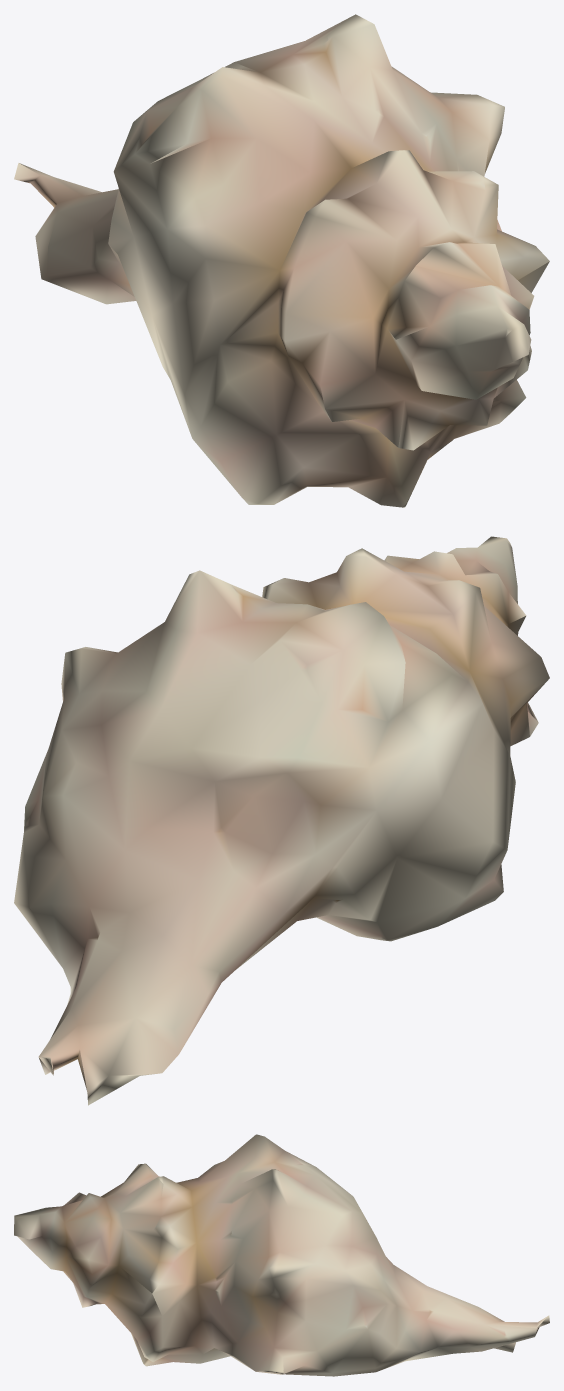
The model's file is underwater-shells-conch-shell_v2.glb.
3 renders of one model, top to bottom at view 1: azimuth 30°, elevation 25°; view 2: azimuth 150°, elevation 25°; view 3: azimuth 270°, elevation 25°, orthographic. The views are drawn at different scales.
Parts seen in each view (by area): view 1: Conch Shell_v2; view 2: Conch Shell_v2; view 3: Conch Shell_v2.
Boxes of the visible parts, <box> form: Conch Shell_v2: <box>14,14,549,507</box>; Conch Shell_v2: <box>14,536,549,1105</box>; Conch Shell_v2: <box>14,1134,549,1376</box>.
Size of the model in its own units: 0.0732 by 0.0663 by 0.15.
